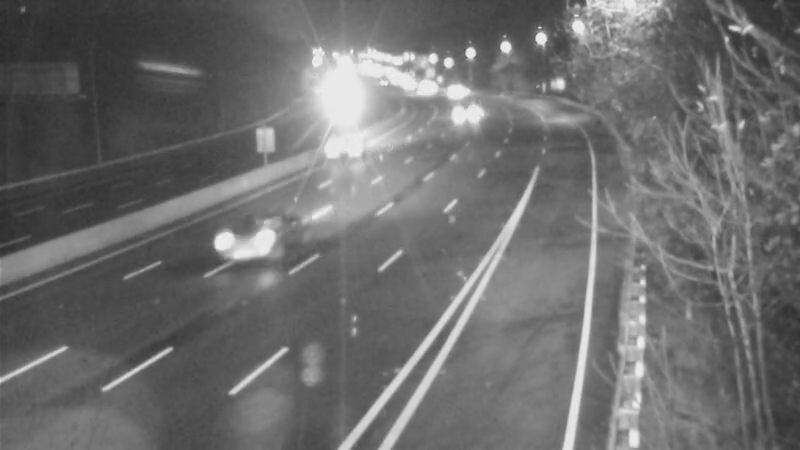vehicle: (203, 201, 283, 281), (427, 66, 477, 116), (439, 89, 489, 139), (321, 122, 371, 172)
